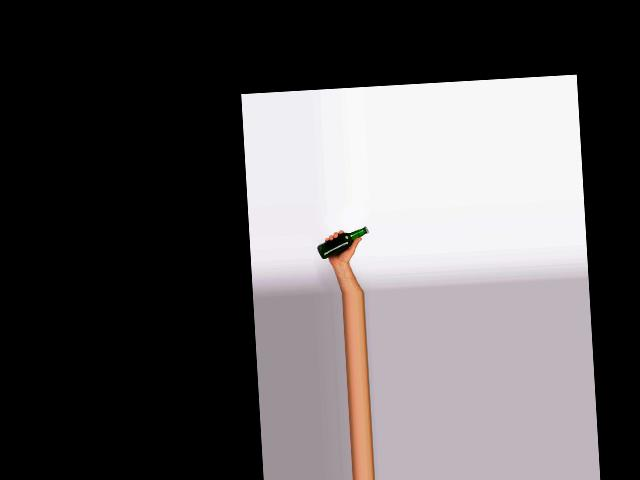beer: (316, 227, 369, 259)
